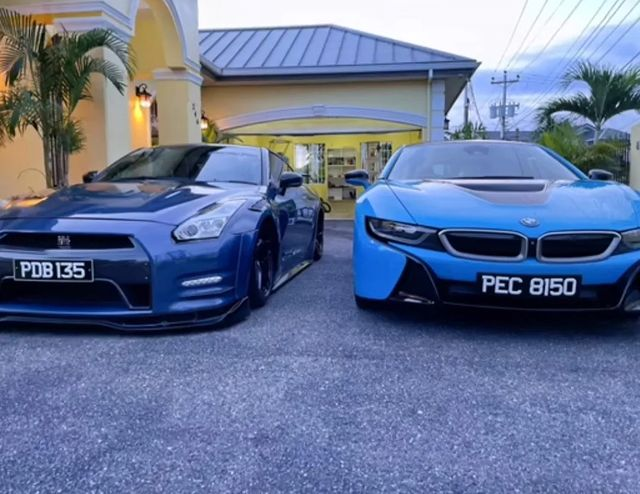License-Plate: (478, 272, 581, 294), (13, 259, 91, 279)
